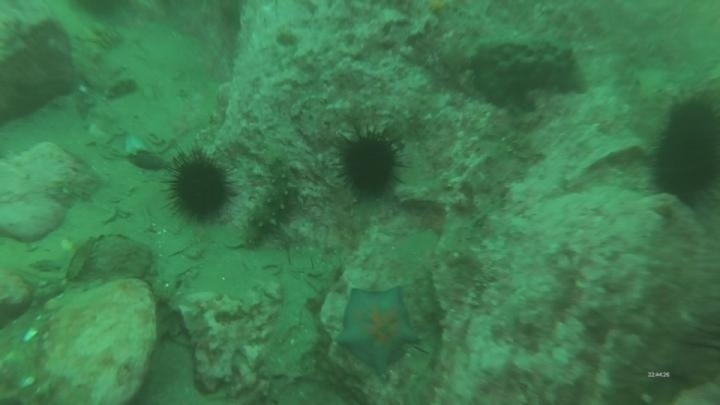echinus: (648, 89, 720, 207), (163, 149, 237, 225), (334, 126, 406, 201), (69, 1, 135, 24)
holothurian: (234, 154, 298, 251)
starfish: (335, 285, 422, 376)
